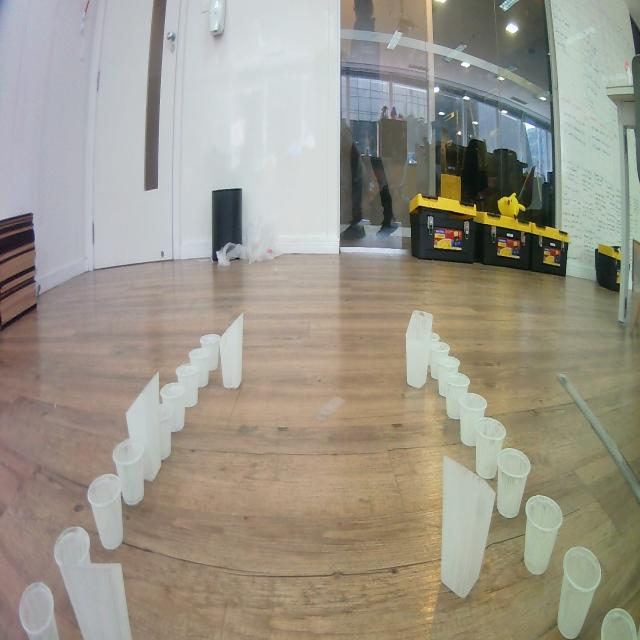erva_daninha: (440, 454, 496, 598), (61, 561, 132, 640), (125, 370, 162, 482), (405, 310, 433, 389), (220, 312, 244, 390)
planta: (557, 545, 602, 640), (524, 494, 563, 576), (87, 472, 124, 550), (496, 447, 532, 520), (54, 525, 92, 592), (18, 580, 60, 640), (112, 440, 146, 506), (474, 417, 506, 480), (457, 392, 488, 448), (159, 382, 186, 433), (444, 372, 470, 421), (600, 608, 639, 640), (175, 363, 199, 408), (438, 356, 460, 398), (188, 347, 210, 388), (199, 333, 221, 372), (430, 341, 451, 380), (158, 405, 172, 460), (430, 331, 441, 344)
